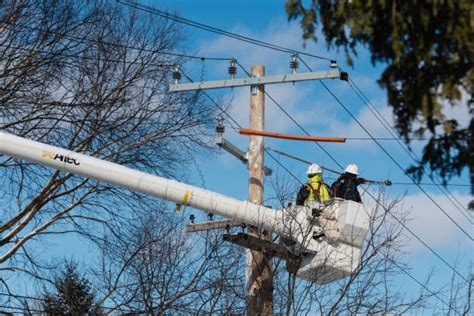pole: (160, 45, 363, 316)
